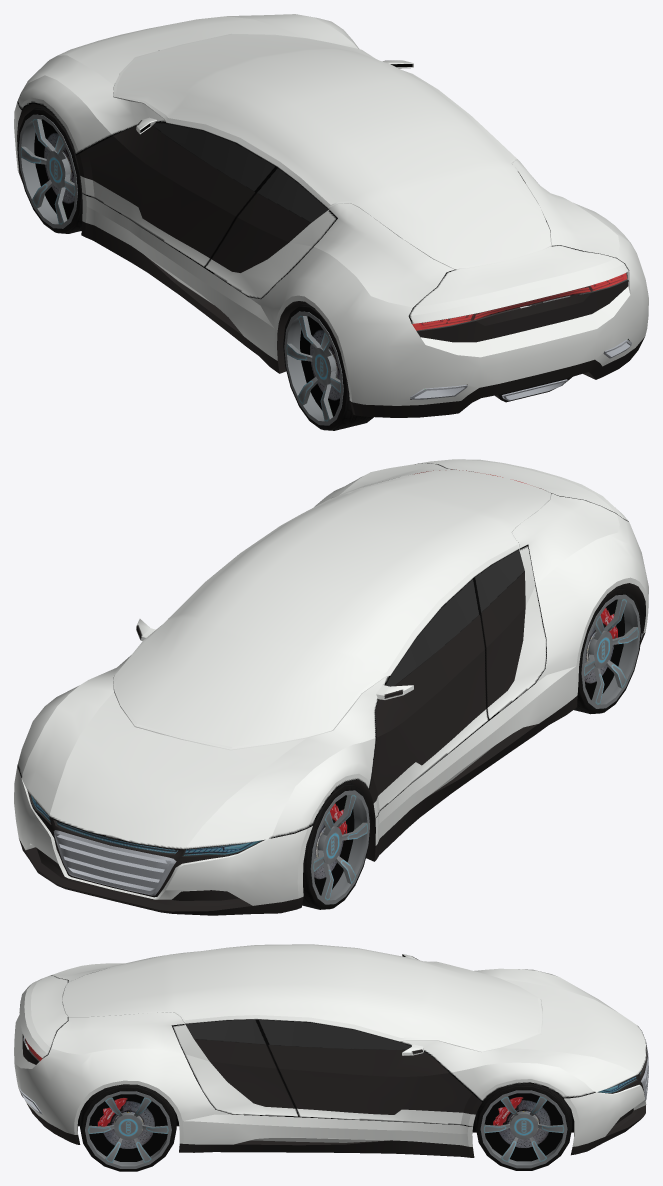
The model's file is Audi.FBX.
3 views of the same model, one above another, from view 1: azimuth 30°, elevation 25°; view 2: azimuth 150°, elevation 25°; view 3: azimuth 270°, elevation 25° (orthographic). The views are drawn at different scales.
Parts seen in each view (by area): view 1: audi_body, audi_roof, audi_side_windows, audi_wheel_front_left, audi_rear_panel, audi_wheel_rear_left, tyre001, audi_rear_lights, audi_rear_lights_inside, audi_tyres_filling_01, audi_tyres_filling_02, audi_exhaust; view 2: audi_body, audi_roof, audi_wheel_front_left, audi_side_windows, audi_grill, audi_wheel_rear_left, audi_front_lights, audi_tyres_filling_01, audi_tyres_filling_02, audi_front_lights_inside, tyre001; view 3: audi_body, audi_roof, audi_side_windows, audi_tyres_filling_03, audi_tyres_filling_04, audi_wheel_front_right, audi_wheel_rear_right, tyre002, tyre003.
Part boxes in pixels (x1,y1,x2,y2): audi_body: [14, 14, 648, 417]; audi_roof: [113, 33, 551, 269]; audi_side_windows: [152, 122, 328, 222]; audi_wheel_front_left: [17, 105, 82, 233]; audi_rear_panel: [417, 280, 628, 342]; audi_wheel_rear_left: [284, 311, 343, 425]; tyre001: [283, 303, 373, 430]; audi_rear_lights: [412, 273, 628, 331]; audi_rear_lights_inside: [412, 273, 627, 330]; audi_tyres_filling_01: [34, 119, 74, 219]; audi_tyres_filling_02: [300, 316, 340, 416]; audi_exhaust: [410, 339, 631, 400]; audi_body: [14, 459, 648, 915]; audi_roof: [113, 469, 551, 750]; audi_wheel_front_left: [302, 782, 371, 909]; audi_side_windows: [385, 549, 524, 686]; audi_grill: [53, 830, 176, 895]; audi_wheel_rear_left: [581, 594, 640, 708]; audi_front_lights: [28, 792, 260, 856]; audi_tyres_filling_01: [314, 795, 354, 895]; audi_tyres_filling_02: [584, 599, 624, 699]; audi_front_lights_inside: [31, 795, 261, 855]; tyre001: [574, 586, 641, 714]; audi_body: [14, 953, 647, 1157]; audi_roof: [62, 944, 542, 1052]; audi_side_windows: [185, 1019, 411, 1049]; audi_tyres_filling_03: [484, 1093, 563, 1161]; audi_tyres_filling_04: [89, 1094, 167, 1161]; audi_wheel_front_right: [480, 1090, 567, 1168]; audi_wheel_rear_right: [85, 1091, 171, 1168]; tyre002: [475, 1083, 572, 1170]; tyre003: [80, 1084, 176, 1171].
Bounding box in the file's own units: 41.55 × 27.18 × 102.
